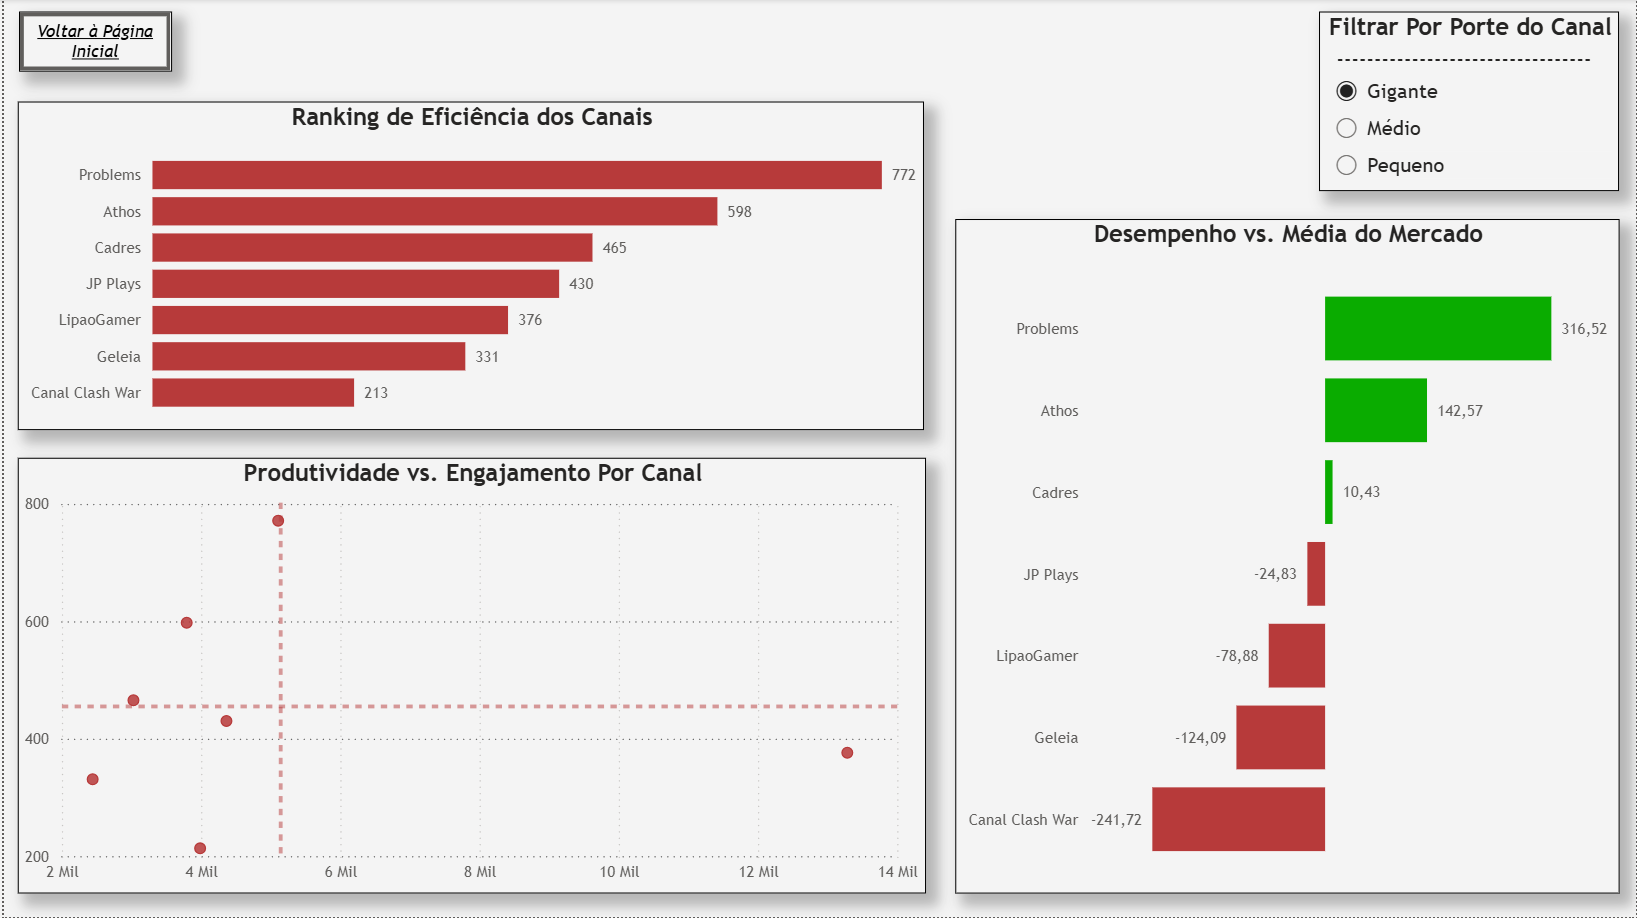

The page's visual inventory and layout, read from the dashboard file:
{"tool":"powerbi","page":{"name":"Análise Detalhada de Nichos","canvas":[1280,720],"ordinal":2},"visuals":[{"type":"slicer","title":"Filtrar Por Porte do Canal","fields":{"Values":["top_youtube_brasil_limpo.Porte_do_Canal"]},"box":[1030.4,9.5,235.5,140.9],"z":0},{"type":"clusteredBarChart","title":"Desempenho vs. Média do Mercado","fields":{"Category":["top_youtube_brasil_limpo.Channel Name"],"Y":["_Medidas.Desvio da Media"]},"box":[745.4,172.4,520.4,528.9],"z":1000},{"type":"scatterChart","title":"Produtividade vs. Engajamento Por Canal","fields":{"Category":["top_youtube_brasil_limpo.Channel Name"],"X":["Sum(top_youtube_brasil_limpo.Total Videos)"],"Y":["Sum(top_youtube_brasil_limpo.Views_por_Inscrito)"]},"box":[10.5,359.6,711.8,341.7],"z":2000},{"type":"barChart","title":"Ranking de Eficiência dos Canais","fields":{"Category":["top_youtube_brasil_limpo.Channel Name"],"Y":["_Medidas.Media Eficiencia"]},"box":[10.5,79.9,710.8,257.6],"z":3000},{"type":"actionButton","box":[11.6,9.5,119.9,47.3],"z":4000}]}

Visuals, with their boxes in screenshot pixels (x1, y1, x2, y2), scaled from the page's 1280x720 canvas onto the 1637x918 screenshot:
"Filtrar Por Porte do Canal" slicer: 1318,12,1619,192
"Desempenho vs. Média do Mercado" clusteredBarChart: 953,220,1619,894
"Produtividade vs. Engajamento Por Canal" scatterChart: 13,458,924,894
"Ranking de Eficiência dos Canais" barChart: 13,102,922,430
actionButton: 15,12,168,72
